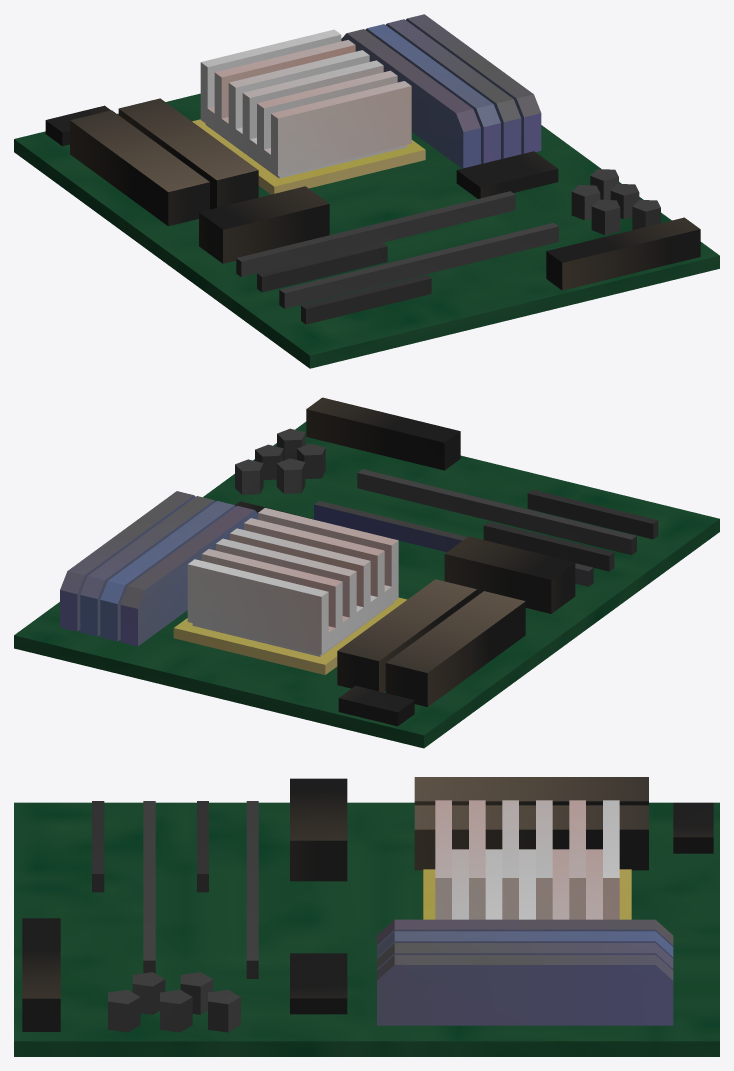
Rendered from PowerLvl2.fbx.
3 renders of one model, top to bottom at view 1: azimuth 30°, elevation 25°; view 2: azimuth 150°, elevation 25°; view 3: azimuth 270°, elevation 25°, orthographic. The views are drawn at different scales.
Parts seen in each view (by area): view 1: power_lvl2; view 2: power_lvl2; view 3: power_lvl2.
Boxes of the visible parts, x1=… form: power_lvl2: x1=14, y1=14, x2=719, y2=368; power_lvl2: x1=14, y1=397, x2=719, y2=748; power_lvl2: x1=14, y1=777, x2=719, y2=1056.
Bounding box in the file's own units: 0.4065 × 0.081 × 0.5081.
